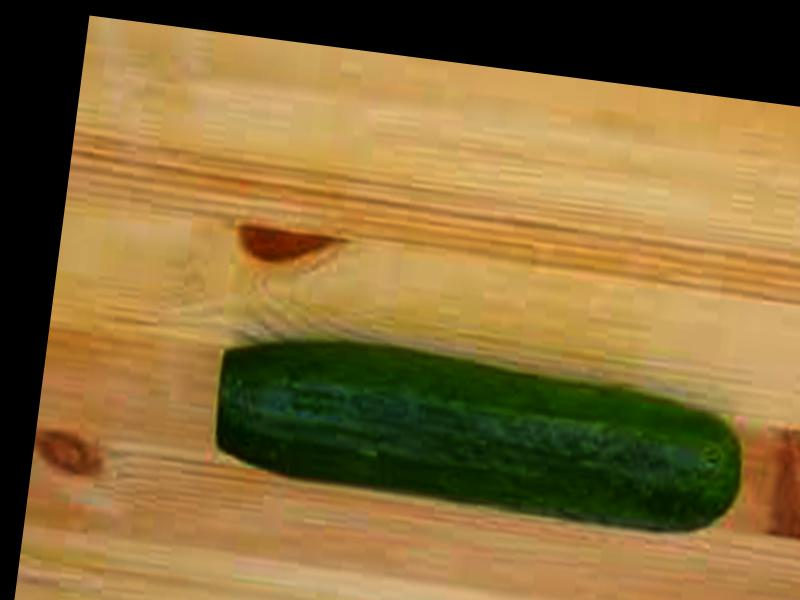Cucumber: (211, 331, 750, 540)
